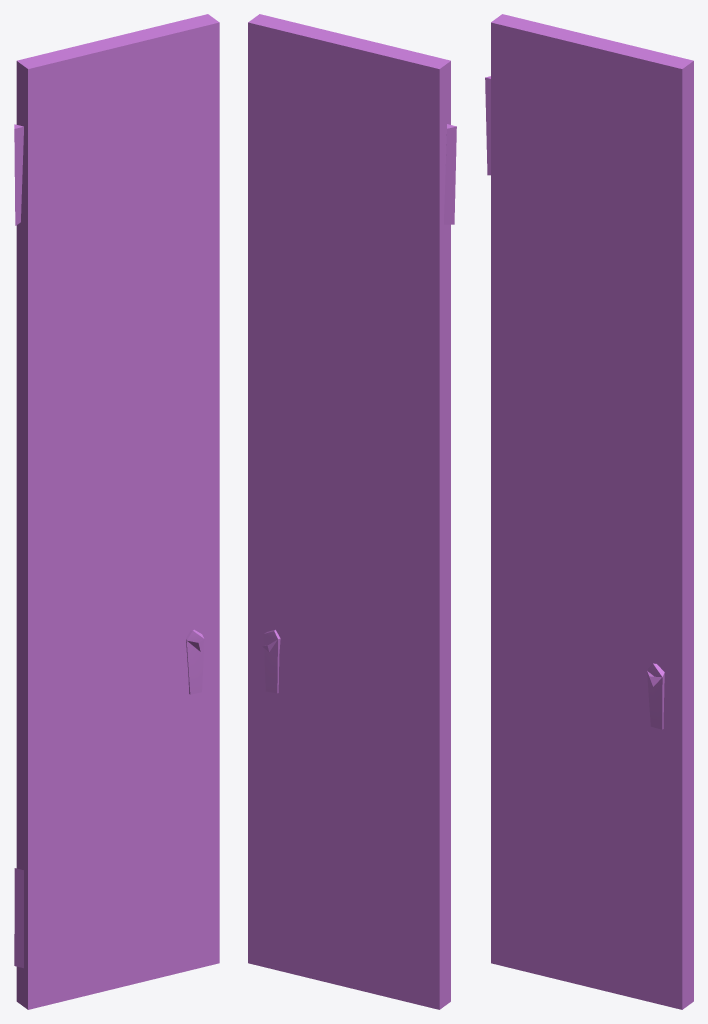
File: Villa2_Door_A1.fbx
3 renders of one model, left to right at view 1: azimuth 30°, elevation 25°; view 2: azimuth 150°, elevation 25°; view 3: azimuth 330°, elevation 25°, orthographic.
Parts seen in each view (by area): view 1: Villa2_Door_A; view 2: Villa2_Door_A; view 3: Villa2_Door_A.
Boxes of the visible parts, box(x1,y1,x2,y2) form: Villa2_Door_A: box(14, 14, 219, 1009); Villa2_Door_A: box(248, 14, 456, 1009); Villa2_Door_A: box(485, 14, 693, 1009).
Size of the model in its own units: 100 by 448 by 21.15.
